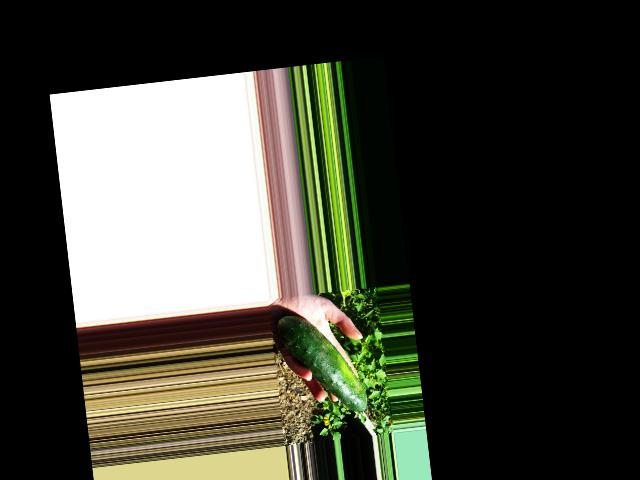cucumber: (276, 308, 368, 420)
